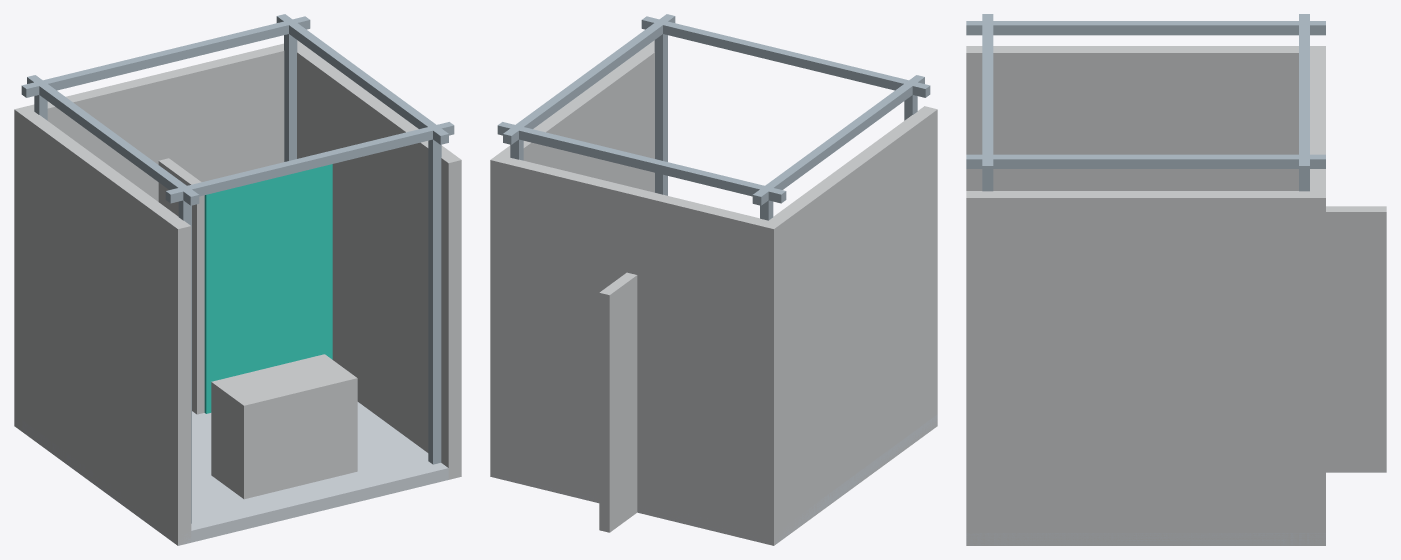
The picture shows the model from 3 angles, left to right: view 1: azimuth 30°, elevation 25°; view 2: azimuth 150°, elevation 25°; view 3: azimuth 270°, elevation 25°; orthographic projection. The views are drawn at different scales.
Visible parts, largest first — view 1: Exhibition Booth Concept; view 2: Exhibition Booth Concept; view 3: Exhibition Booth Concept.
Part boxes in pixels (x1,y1,x2,y2): Exhibition Booth Concept: (14,14,461,545); Exhibition Booth Concept: (490,14,937,545); Exhibition Booth Concept: (966,14,1386,545).
Size of the model in its own units: 3 by 3.49 by 3.51.
